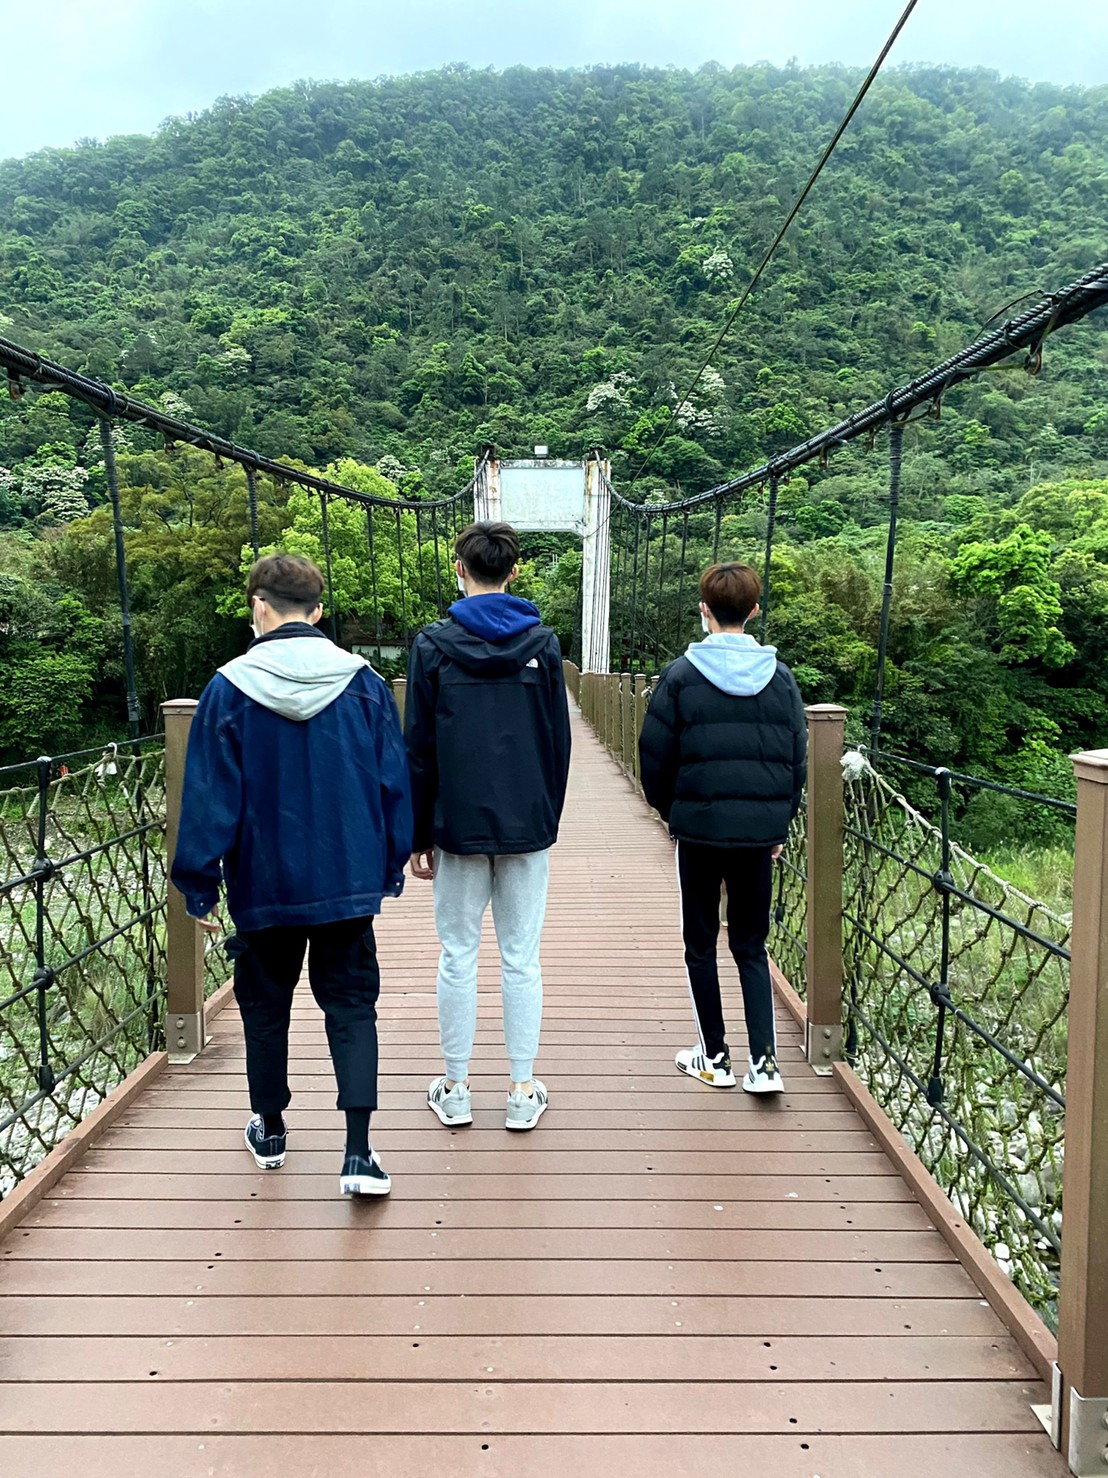people: (231, 562, 390, 1214), (414, 514, 557, 1138), (676, 576, 814, 1121)
